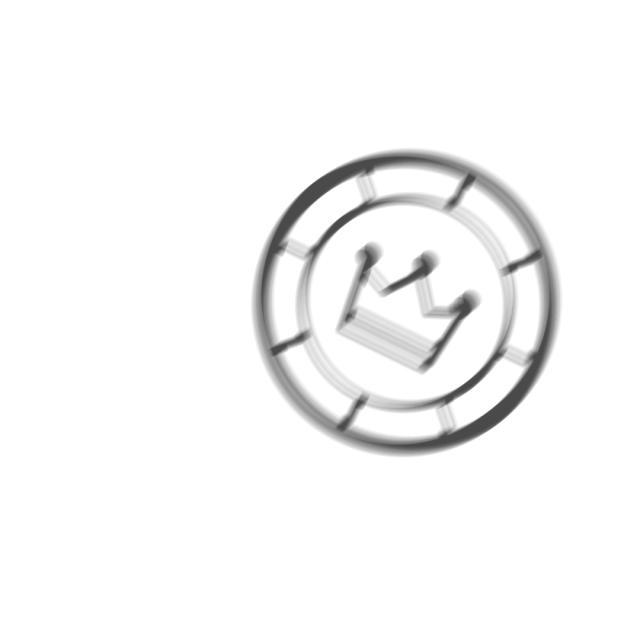coin: (248, 145, 567, 464)
